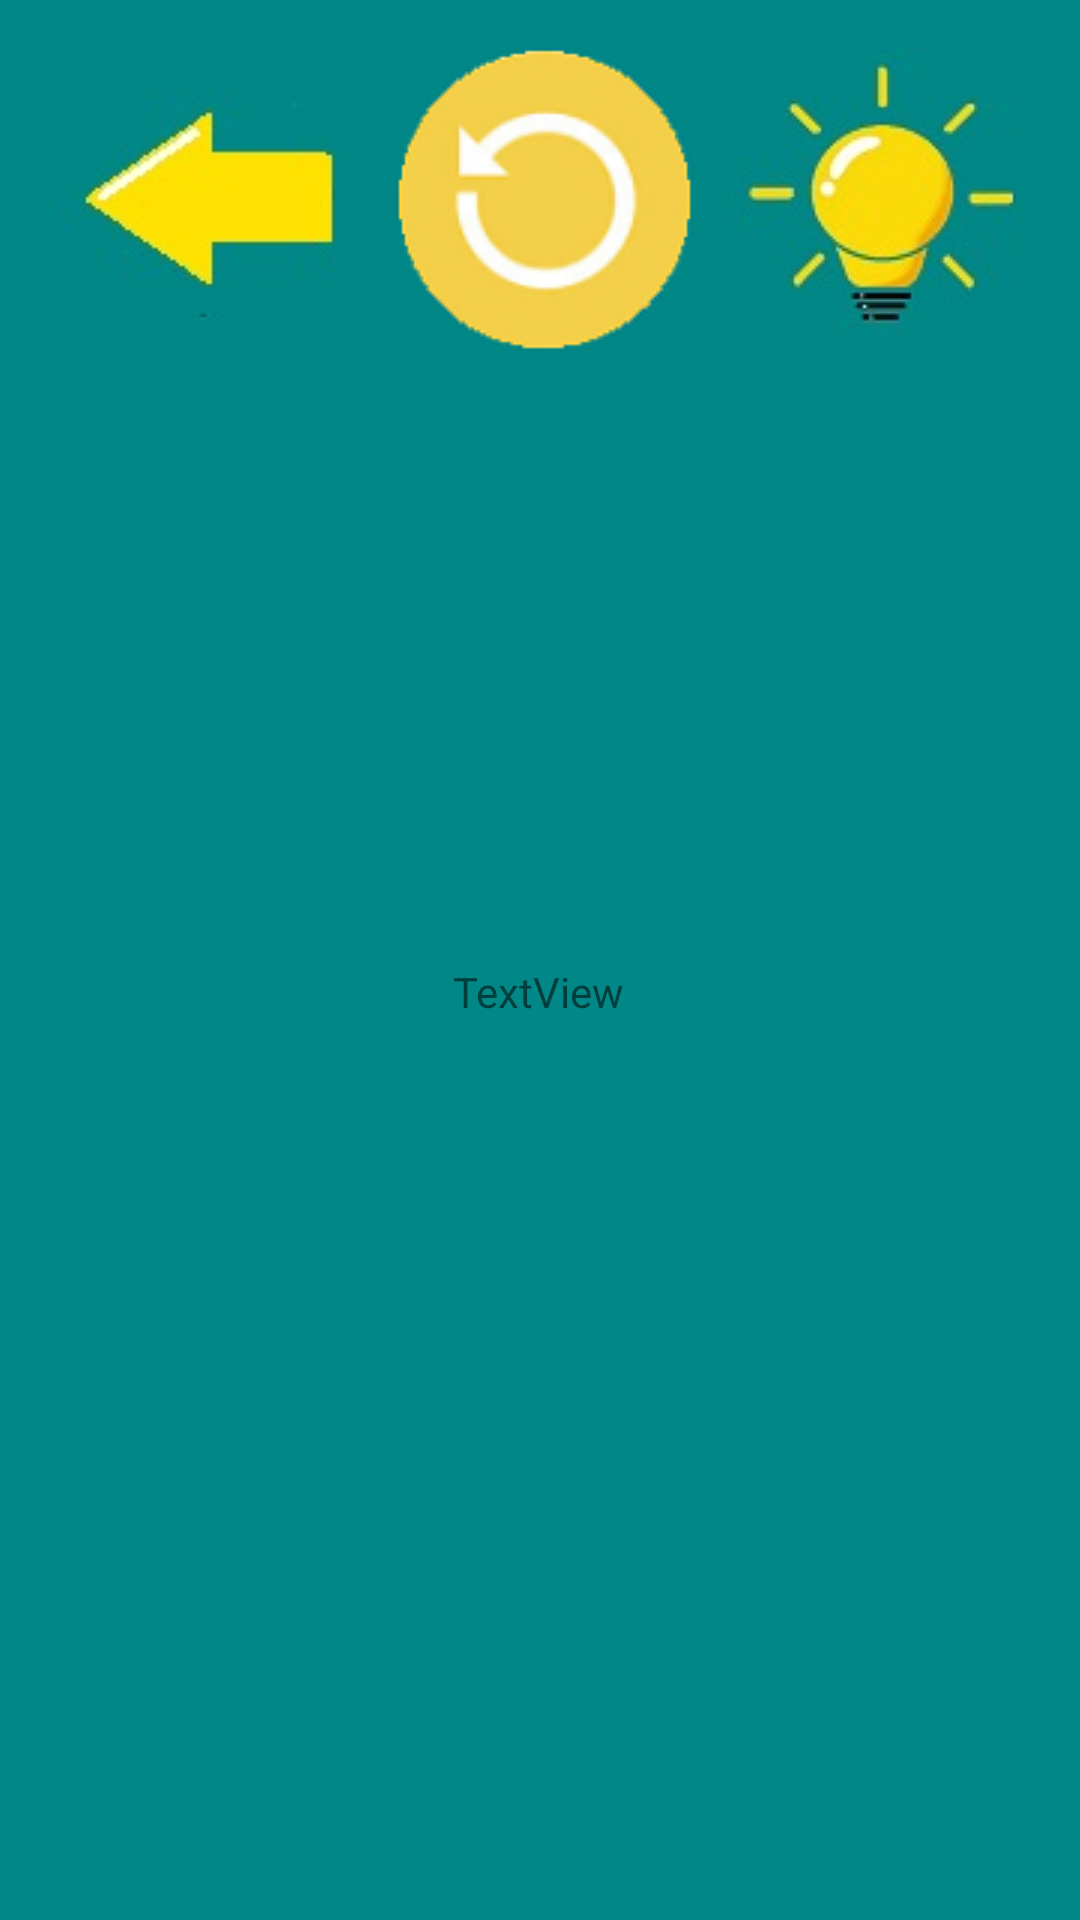

Point at icon controls on the screen. Image size 1080×1920, points as [x,y].
back ready: [209,212]
help ready: [881,193]
replay ready: [544,199]
